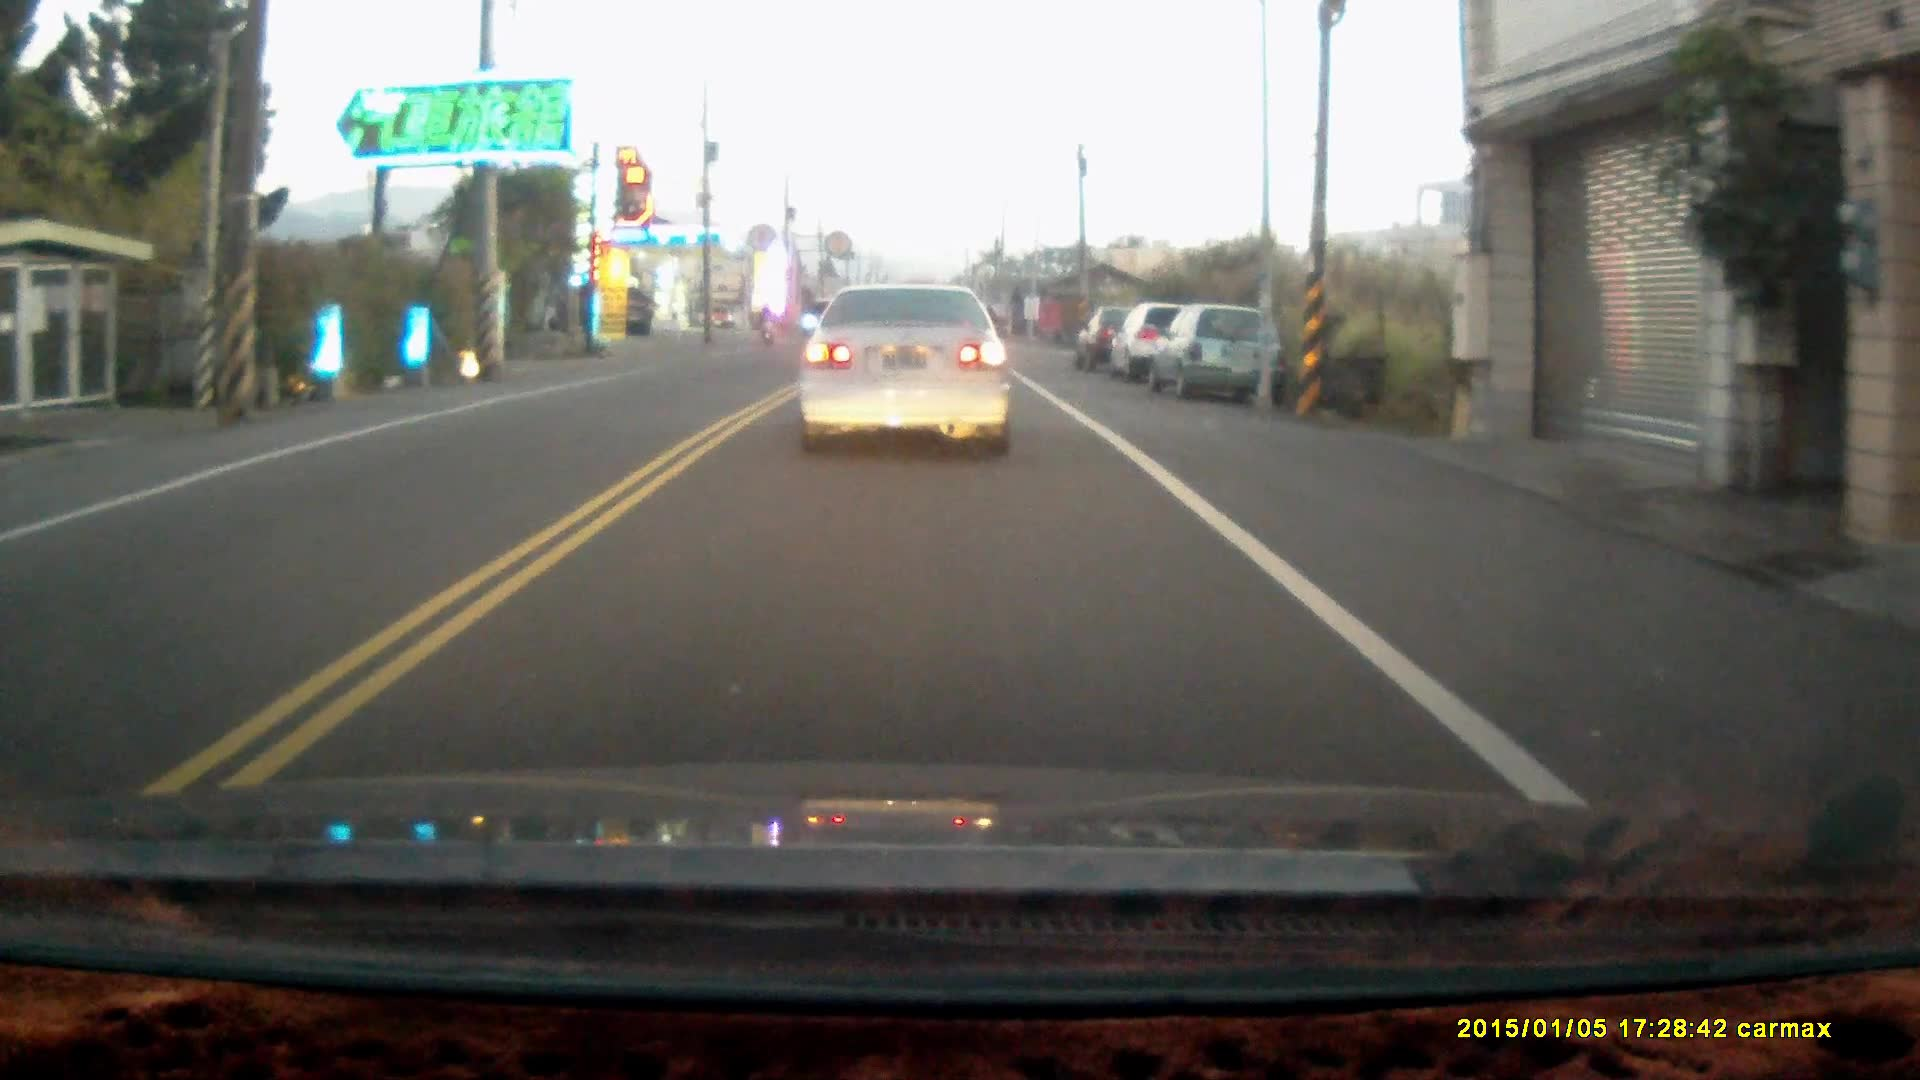rider: (755, 302, 775, 345)
vehicle: (796, 278, 1013, 463), (1158, 306, 1286, 405), (1117, 300, 1226, 382), (1079, 309, 1173, 374)
